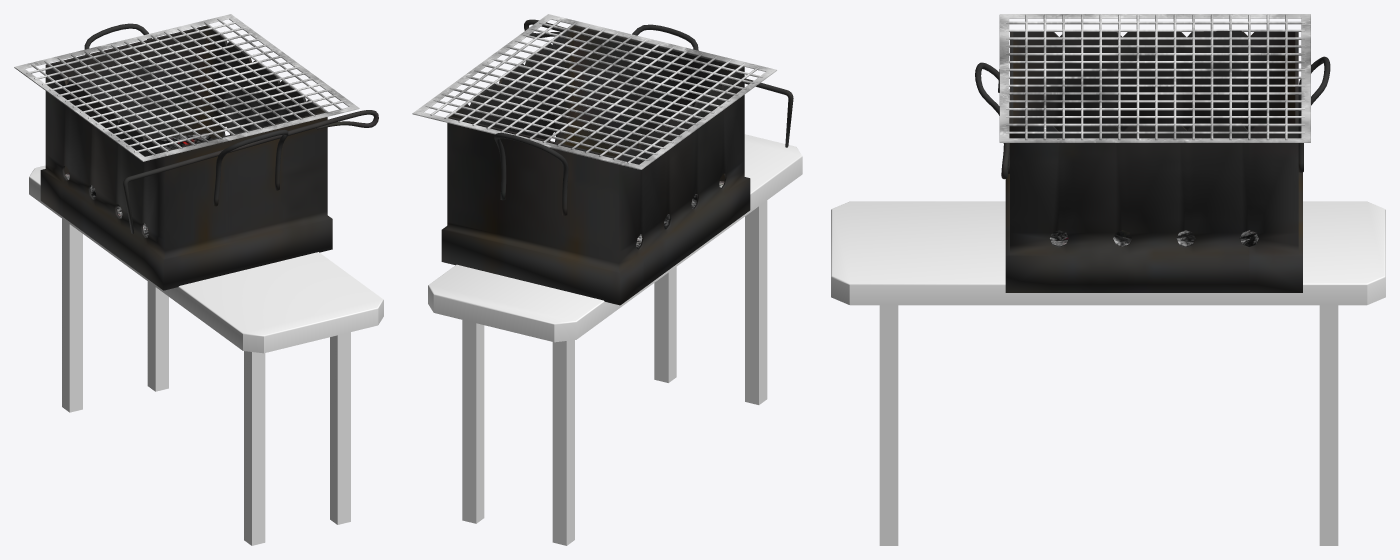
File: scene_barbecue.obj
3 renders of one model, left to right at view 1: azimuth 30°, elevation 25°; view 2: azimuth 150°, elevation 25°; view 3: azimuth 270°, elevation 25°, orthographic. The views are drawn at different scales.
Visible parts, largest first — view 1: BBQ_BBQ_0, 立方体, 铁架1, 铁架1.001, BBQ_BBQ_Coals_0; view 2: BBQ_BBQ_0, 立方体, 铁架1, 铁架1.001; view 3: BBQ_BBQ_0, 立方体, 铁架1, 铁架1.001, BBQ_BBQ_Coals_0.
Part boxes in pixels (x1,y1,x2,y2): BBQ_BBQ_0: [40, 23, 378, 290]; 立方体: [29, 165, 383, 545]; 铁架1: [26, 18, 346, 155]; 铁架1.001: [14, 14, 359, 161]; BBQ_BBQ_Coals_0: [65, 133, 211, 237]; BBQ_BBQ_0: [441, 19, 793, 305]; 立方体: [428, 134, 802, 545]; 铁架1: [425, 19, 762, 163]; 铁架1.001: [412, 14, 776, 169]; BBQ_BBQ_0: [975, 30, 1330, 292]; 立方体: [831, 201, 1385, 545]; 铁架1: [1006, 14, 1304, 140]; 铁架1.001: [999, 14, 1310, 142]; BBQ_BBQ_Coals_0: [1050, 230, 1258, 246].
Bounding box in the file's own units: 8.01 × 11.17 × 12.49.
